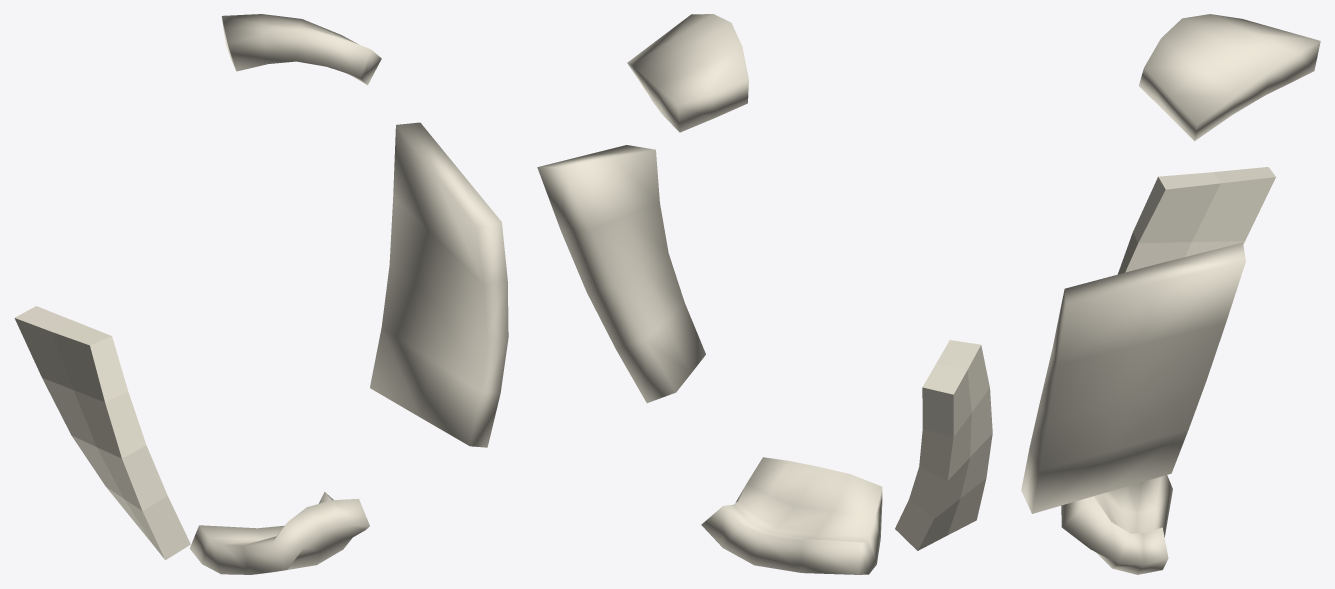
The picture shows the model from 3 angles, left to right: view 1: azimuth 30°, elevation 25°; view 2: azimuth 150°, elevation 25°; view 3: azimuth 270°, elevation 25°; orthographic projection. The views are drawn at different scales.
Parts seen in each view (by area): view 1: ZA_4de320f19471d75d; view 2: ZA_4de320f19471d75d; view 3: ZA_4de320f19471d75d.
Boxes of the visible parts, x1,y1,x2,y2 form: ZA_4de320f19471d75d: (14,14,508,574); ZA_4de320f19471d75d: (537,14,992,574); ZA_4de320f19471d75d: (1021,14,1320,574).
Bounding box in the file's own units: 0.00754 × 0.00928 × 0.00451.
